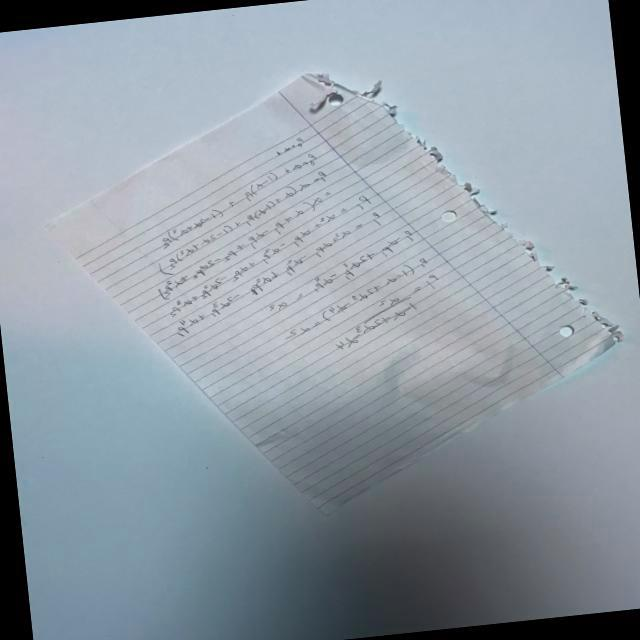paper: (13, 30, 640, 547)
